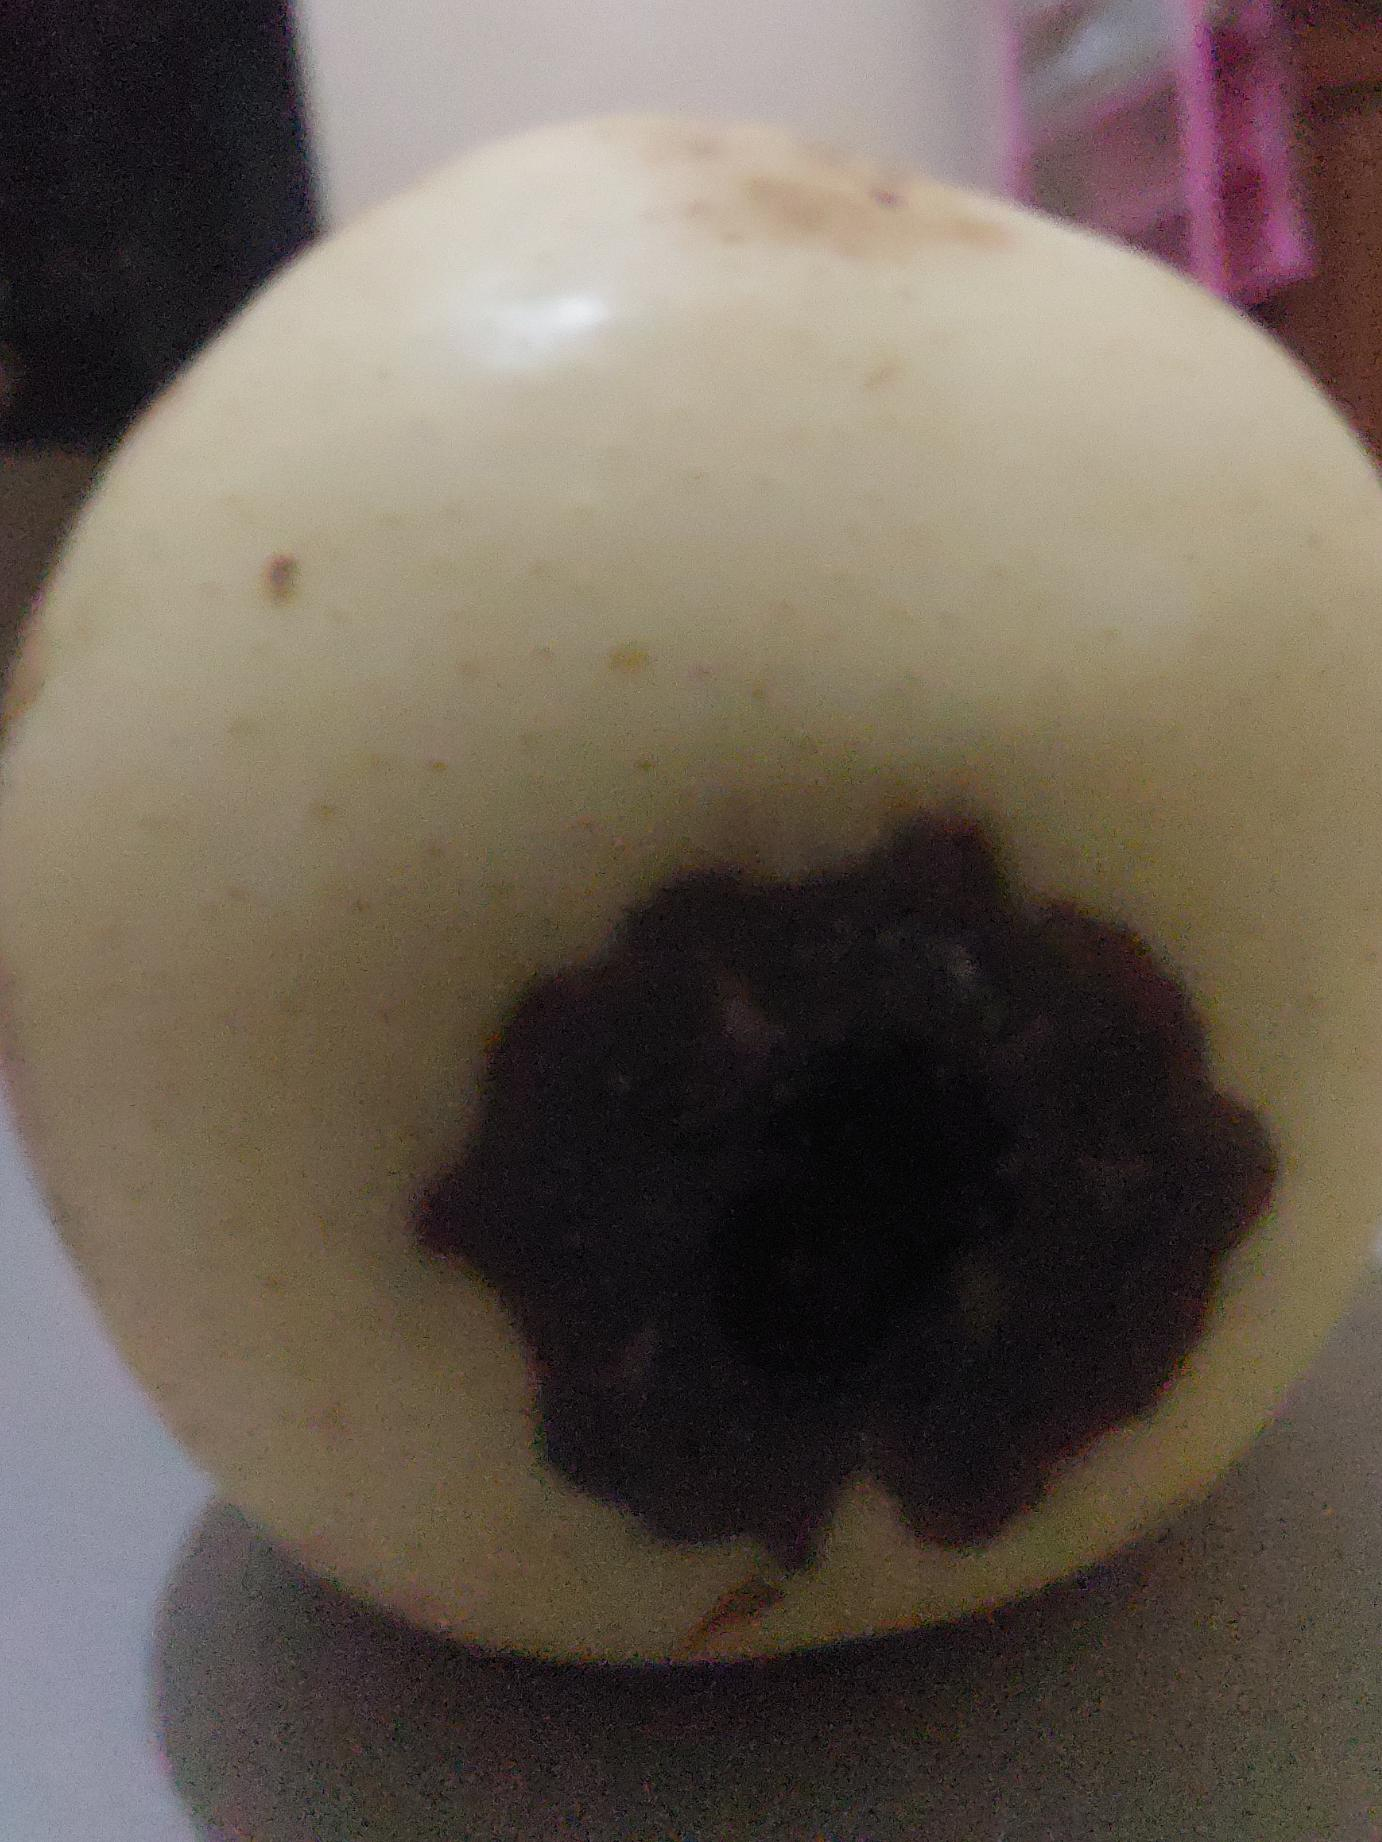Bad Pear: (0, 86, 1382, 1708)
